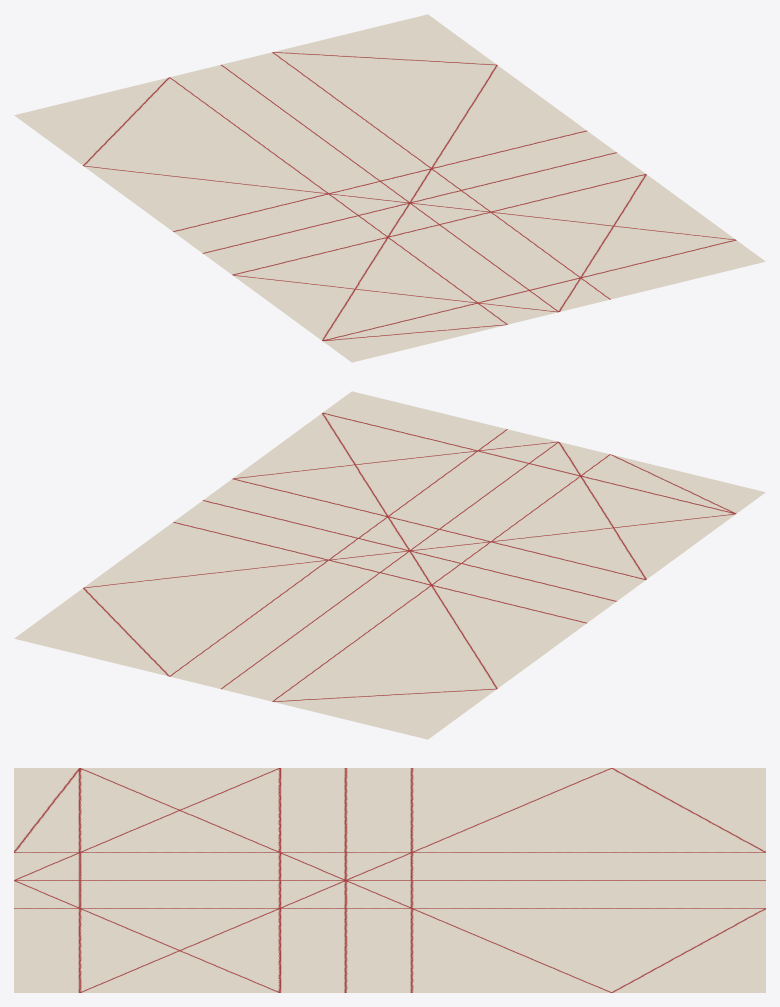
File: paper_plane_2_fine_textured.obj
3 renders of one model, top to bottom at view 1: azimuth 30°, elevation 25°; view 2: azimuth 150°, elevation 25°; view 3: azimuth 270°, elevation 25°, orthographic. The views are drawn at different scales.
Bounding box in the file's own units: 2 × 0 × 2.83.
1 material, 1 textured.
